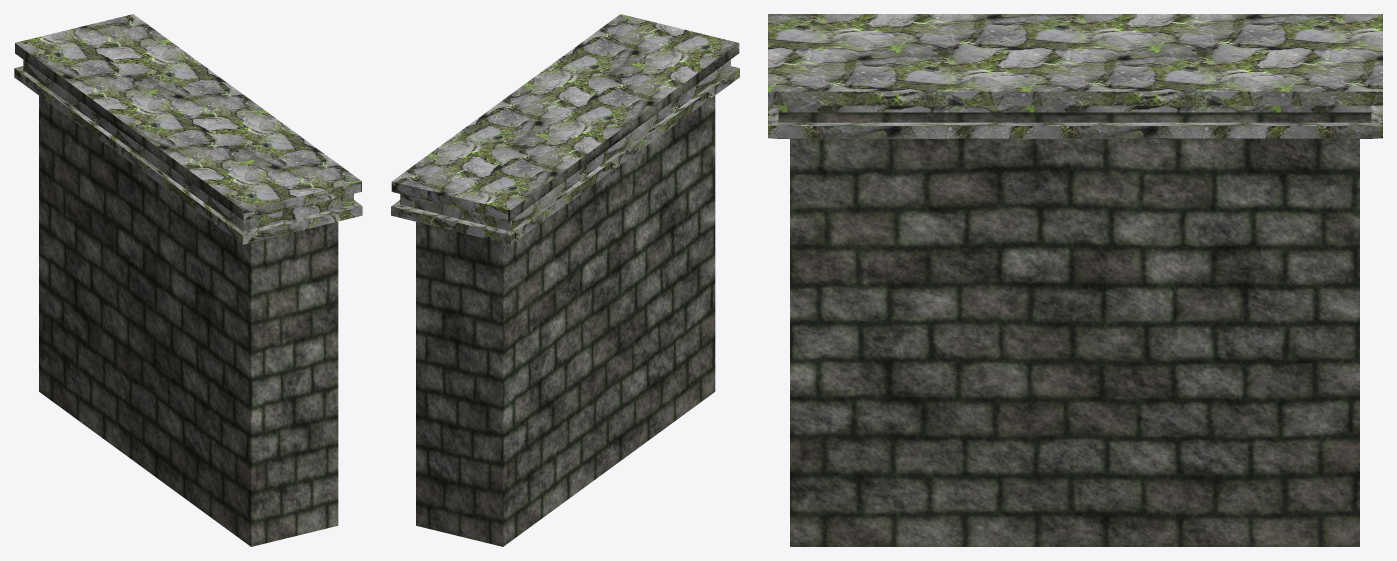
Rendered from murinho.fbx.
3 renders of one model, left to right at view 1: azimuth 30°, elevation 25°; view 2: azimuth 150°, elevation 25°; view 3: azimuth 270°, elevation 25°, orthographic. The views are drawn at different scales.
Visible parts, largest first — view 1: Cube.055; view 2: Cube.055; view 3: Cube.055.
Part boxes in pixels (bbox=[...]): Cube.055: bbox=[14, 14, 362, 546]; Cube.055: bbox=[391, 14, 739, 546]; Cube.055: bbox=[768, 14, 1382, 546].
Bounding box in the file's own units: 275 × 759 × 908.
